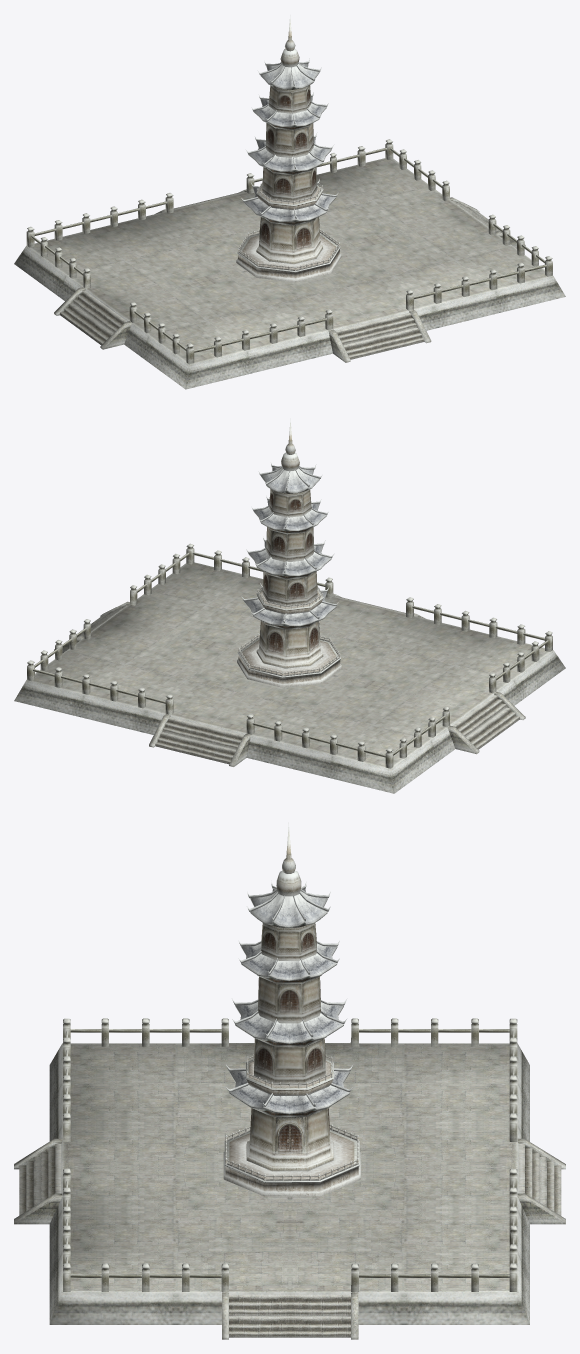
The model's file is snow_tower.fbx.
The picture shows the model from 3 angles, top to bottom: view 1: azimuth 30°, elevation 25°; view 2: azimuth 150°, elevation 25°; view 3: azimuth 270°, elevation 25°; orthographic projection. The views are drawn at different scales.
Visible parts, largest first — view 1: snow_tower02_04, snow_tower02_02, snow_tower02_03, snow_tower02_01; view 2: snow_tower02_04, snow_tower02_02, snow_tower02_03, snow_tower02_01; view 3: snow_tower02_04, snow_tower02_02, snow_tower02_03, snow_tower02_01.
Part boxes in pixels (x1,y1,x2,y2): snow_tower02_04: (14,139,565,389); snow_tower02_02: (241,48,338,264); snow_tower02_03: (243,15,335,225); snow_tower02_01: (236,181,341,282); snow_tower02_04: (14,543,565,793); snow_tower02_02: (241,452,338,668); snow_tower02_03: (244,418,336,629); snow_tower02_01: (237,585,341,687); snow_tower02_04: (14,1018,565,1339); snow_tower02_02: (226,870,353,1171); snow_tower02_03: (229,822,349,1116); snow_tower02_01: (223,1054,360,1196).
Size of the model in its own units: 85.02 by 51.17 by 68.69.
